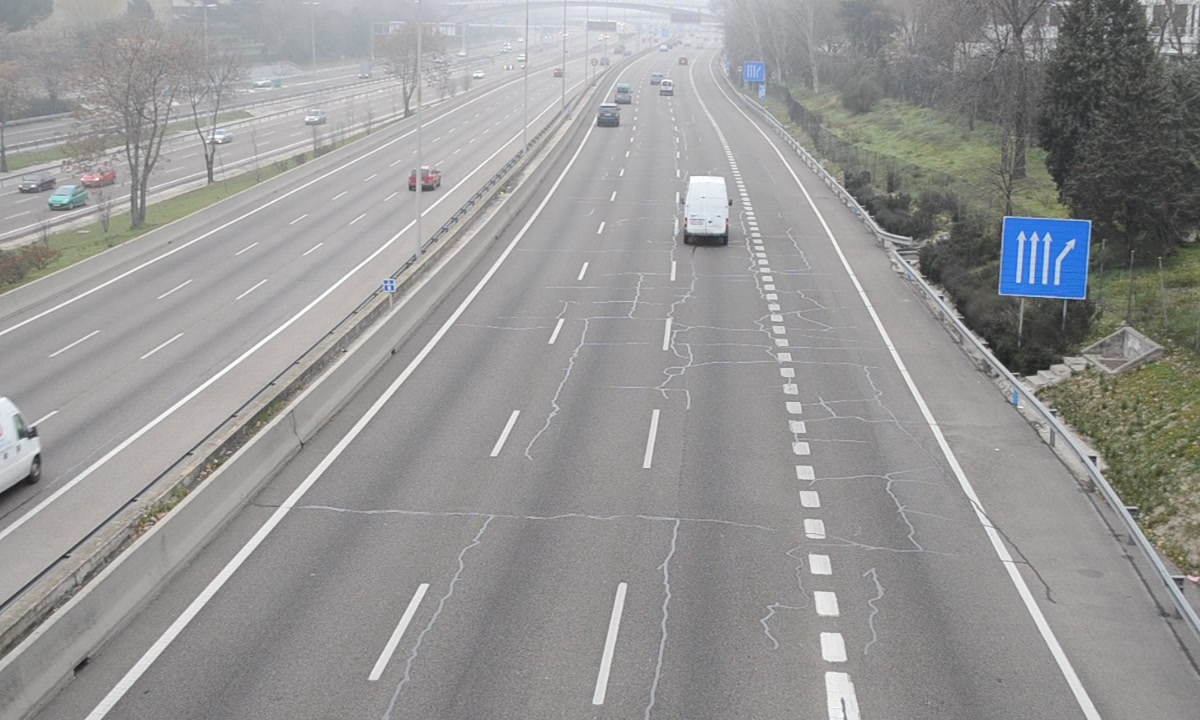car: (597, 102, 619, 127)
van: (682, 175, 731, 243)
